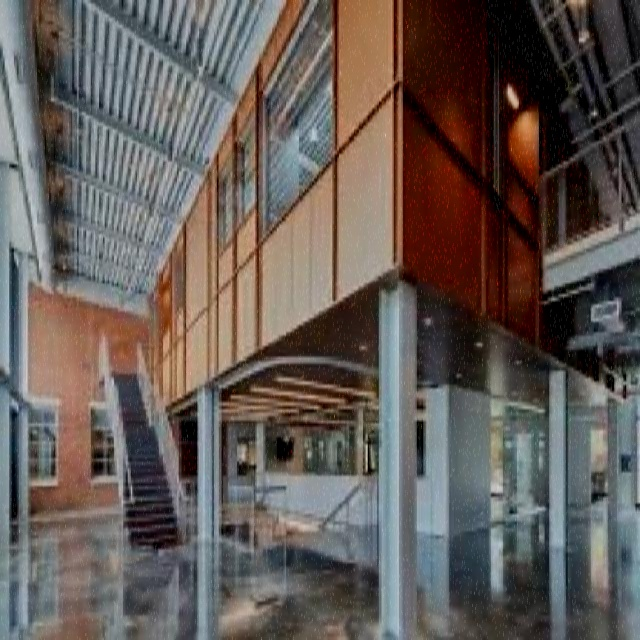stair: (106, 357, 188, 543)
